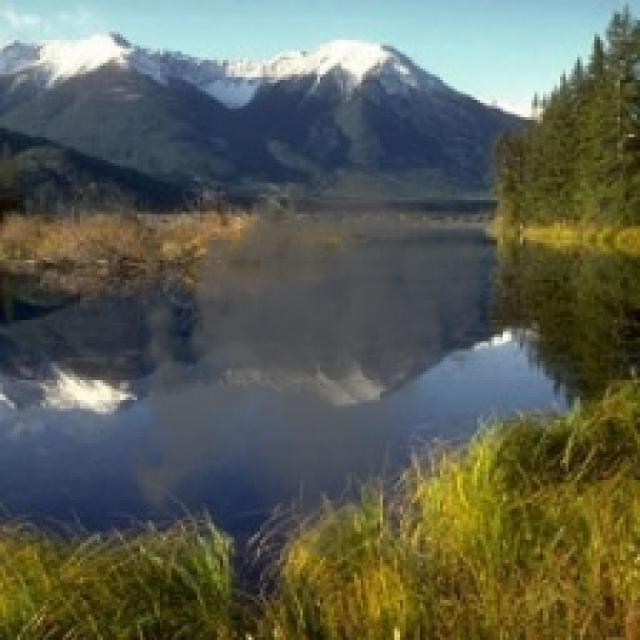Smoke: (117, 140, 494, 557)
